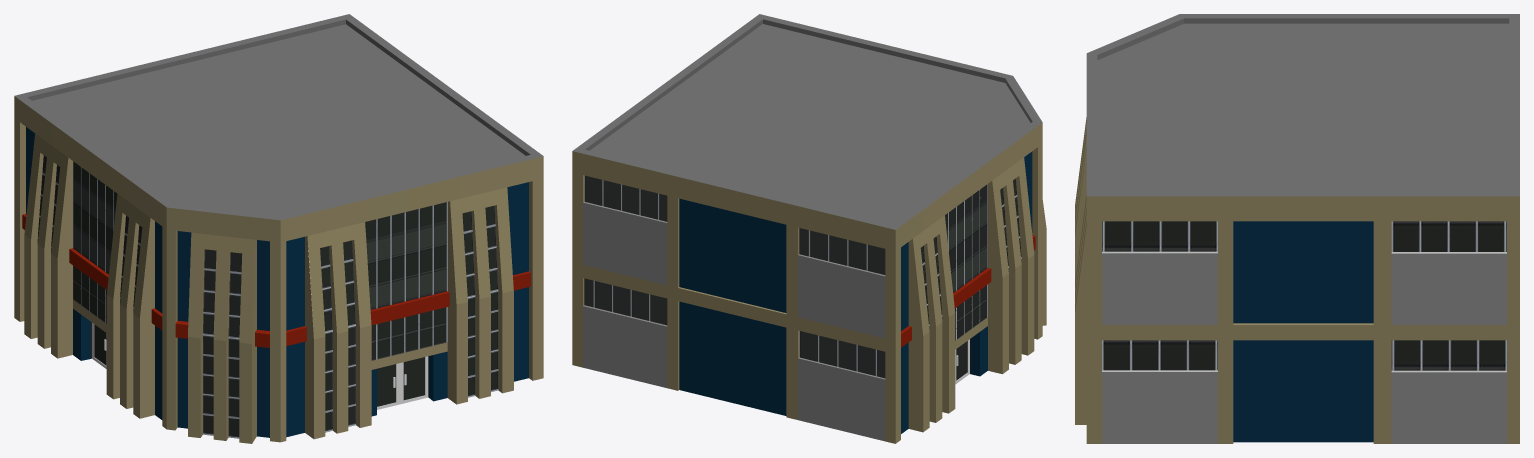
The picture shows the model from 3 angles, left to right: view 1: azimuth 30°, elevation 25°; view 2: azimuth 150°, elevation 25°; view 3: azimuth 270°, elevation 25°; orthographic projection. The views are drawn at different scales.
Visible parts, largest first — view 1: EB-01; view 2: EB-01; view 3: EB-01.
Boxes of the visible parts, x1,y1,x2,y2 form: EB-01: (14, 14, 543, 443); EB-01: (572, 14, 1046, 443); EB-01: (1075, 14, 1519, 443).
Size of what is drawn, in the model's own units: 19.85 by 12.22 by 19.91.
